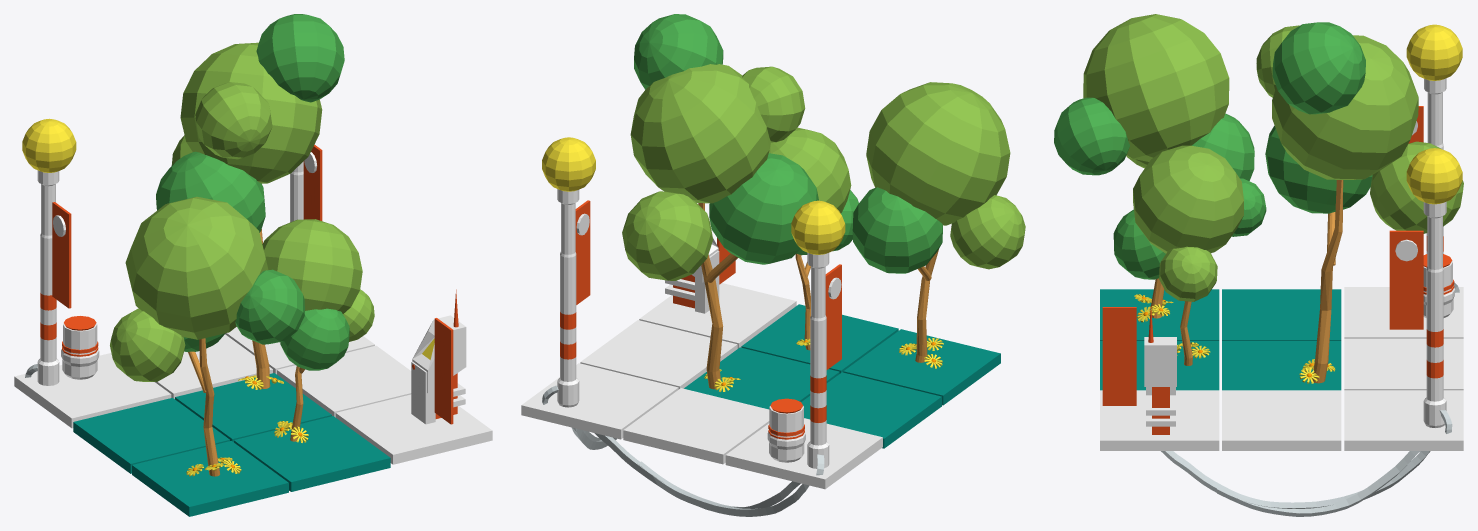
Rendered from scene_gyhvWAkHCy.glb.
3 views of the same model, side by side, from view 1: azimuth 30°, elevation 25°; view 2: azimuth 150°, elevation 25°; view 3: azimuth 270°, elevation 25° (orthographic). The views are drawn at different scales.
Visible parts, largest first — view 1: group1327333527, group875288551, group2057607222, group1668949862, group349592452, group2080909409, group1339548999, group1002234710, group61477943, group2106416746, group987844450, group881777536 (+7 smaller); view 2: group875288551, group1327333527, group2046273398, group1985572750, group1339548999, group1247133466, group1668949862, group61477943, group2080909409, group2106416746, group2057607222, group987844450 (+7 smaller); view 3: group875288551, group1327333527, group2057607222, group61477943, group1985572750, group1247133466, group2080909409, group1002234710, group2046273398, group987844450, group1339548999, group1668949862 (+7 smaller).
Boxes of the visible parts, x1=… form: group1327333527: x1=110, y1=196, x2=304, y2=476; group875288551: x1=156, y1=14, x2=344, y2=388; group2057607222: x1=262, y1=219, x2=374, y2=441; group1668949862: x1=132, y1=441, x2=288, y2=516; group349592452: x1=234, y1=416, x2=390, y2=491; group2080909409: x1=73, y1=398, x2=229, y2=473; group1339548999: x1=22, y1=118, x2=76, y2=385; group1002234710: x1=335, y1=394, x2=492, y2=464; group61477943: x1=277, y1=345, x2=411, y2=417; group2106416746: x1=14, y1=353, x2=171, y2=428; group987844450: x1=175, y1=373, x2=331, y2=442; group881777536: x1=411, y1=289, x2=466, y2=424; group875288551: x1=622, y1=14, x2=818, y2=389; group1327333527: x1=852, y1=82, x2=1025, y2=362; group2046273398: x1=623, y1=388, x2=769, y2=464; group1985572750: x1=542, y1=137, x2=595, y2=407; group1339548999: x1=791, y1=200, x2=845, y2=475; group1247133466: x1=521, y1=363, x2=678, y2=439; group1668949862: x1=843, y1=329, x2=1000, y2=405; group61477943: x1=580, y1=320, x2=737, y2=389; group2080909409: x1=801, y1=372, x2=941, y2=448; group2106416746: x1=725, y1=418, x2=882, y2=489; group2057607222: x1=769, y1=127, x2=858, y2=350; group987844450: x1=684, y1=347, x2=839, y2=409; group875288551: x1=1256, y1=22, x2=1463, y2=383; group1327333527: x1=1054, y1=14, x2=1254, y2=318; group2057607222: x1=1113, y1=145, x2=1266, y2=365; group61477943: x1=1222, y1=390, x2=1341, y2=450; group1985572750: x1=1406, y1=148, x2=1462, y2=433; group1247133466: x1=1344, y1=390, x2=1463, y2=450; group2080909409: x1=1222, y1=289, x2=1341, y2=340; group1002234710: x1=1100, y1=390, x2=1219, y2=450; group2046273398: x1=1344, y1=338, x2=1463, y2=390; group987844450: x1=1222, y1=341, x2=1341, y2=390; group1339548999: x1=1406, y1=24, x2=1462, y2=292; group1668949862: x1=1100, y1=289, x2=1219, y2=340.
Bounding box in the file's own units: 1.48 × 1.77 × 1.44.
